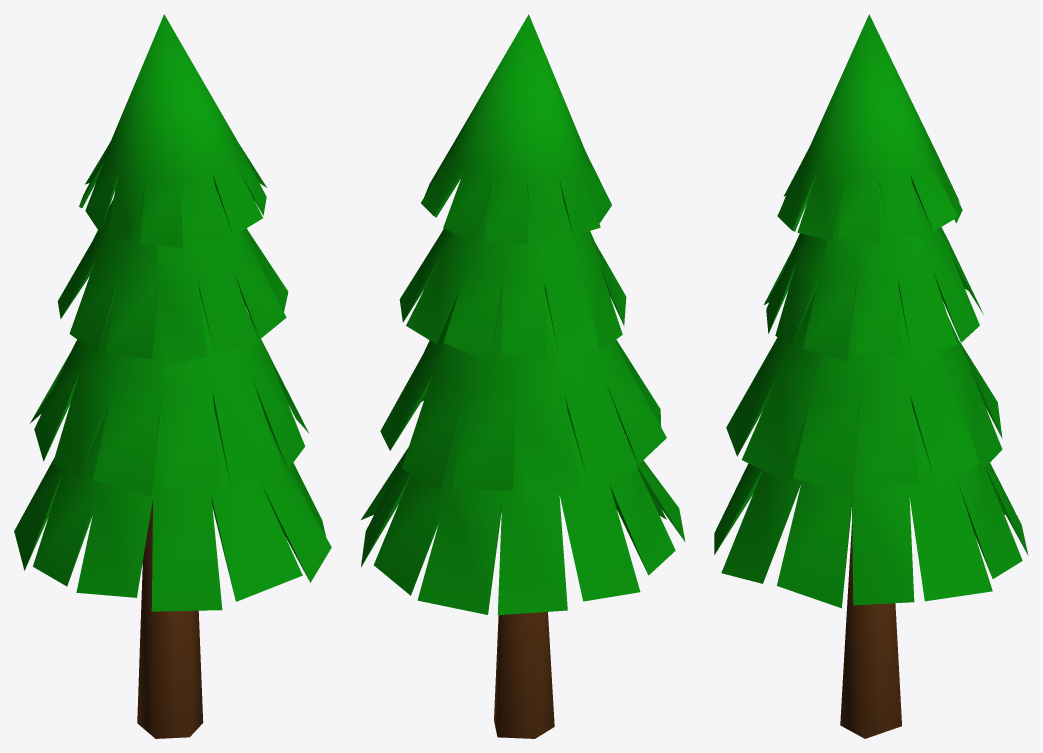
Rendered from Tree_4.fbx.
3 renders of one model, left to right at view 1: azimuth 30°, elevation 25°; view 2: azimuth 150°, elevation 25°; view 3: azimuth 270°, elevation 25°, orthographic.
Parts seen in each view (by area): view 1: Tree_D; view 2: Tree_D; view 3: Tree_D.
Part boxes in pixels (x1,y1,x2,y2): Tree_D: [14, 14, 331, 738]; Tree_D: [361, 14, 685, 738]; Tree_D: [714, 14, 1028, 738].
Size of the model in its own units: 53.06 by 53.95 by 134.
